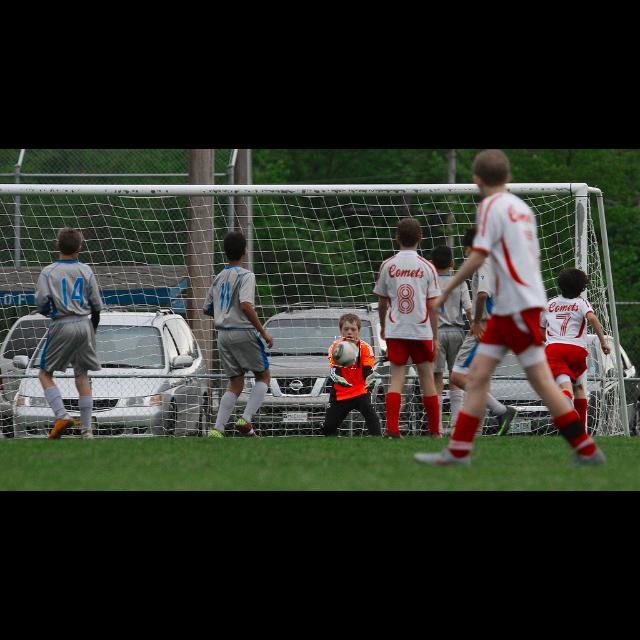Football: (332, 338, 360, 368)
